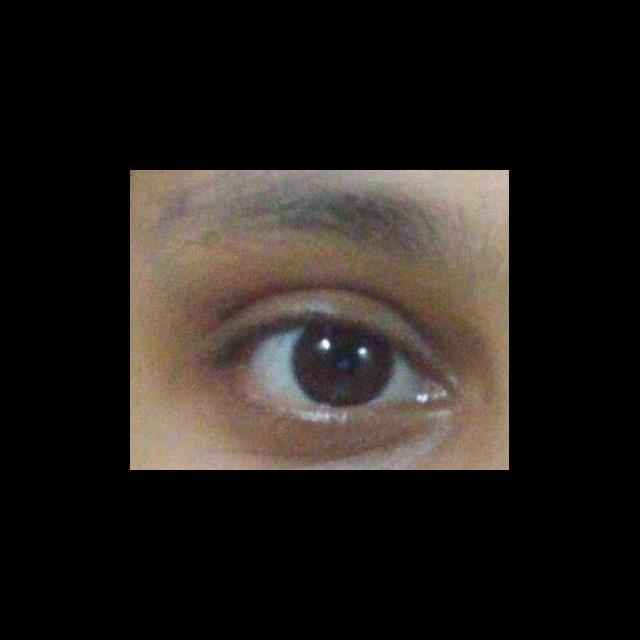eye: (246, 321, 423, 414)
iris: (294, 322, 393, 411)
